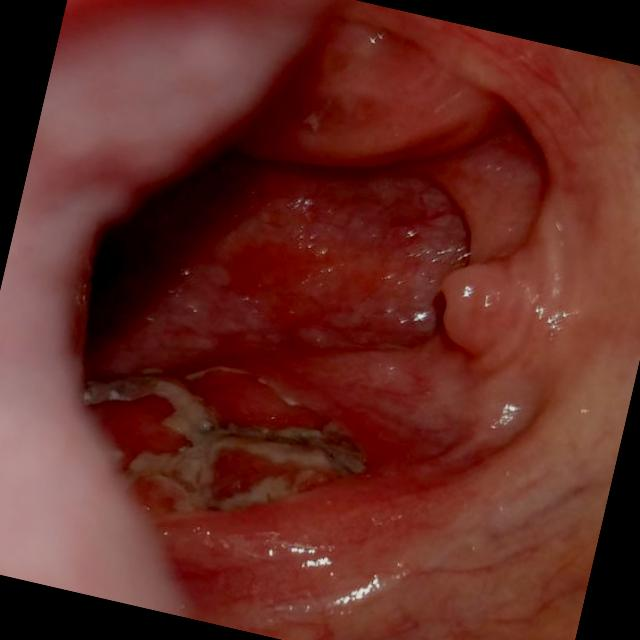pharyngitis: (78, 327, 378, 591), (212, 6, 518, 228)
